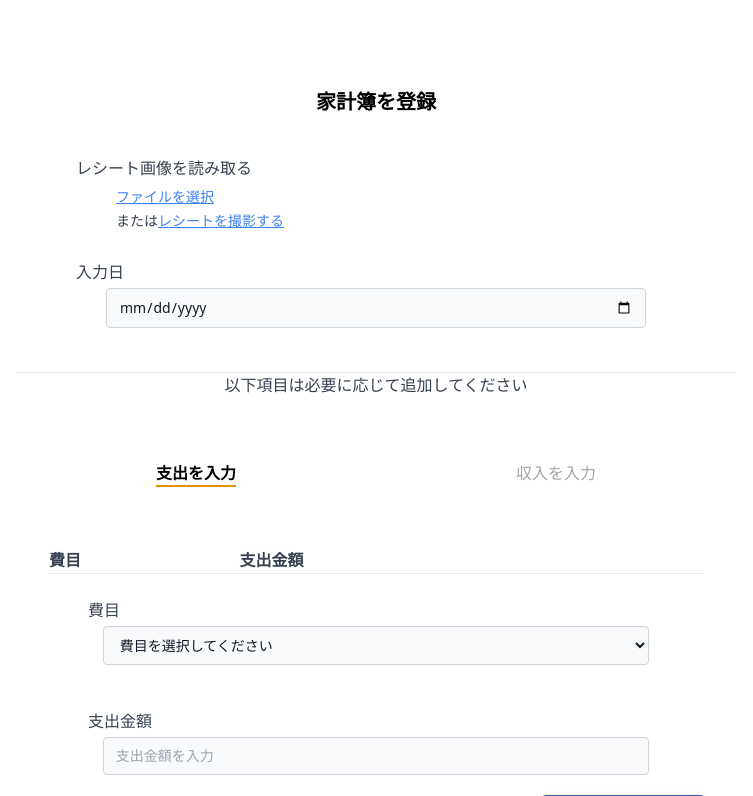
AccountBookForm Components Test Cases › Alert should not be displayed when AccountBookForm is successfull
Type "2022/08" into the date field with test id "input-date".
click(376, 308); type("2022/08")  # box [106,288,646,328]
(page scrolled)
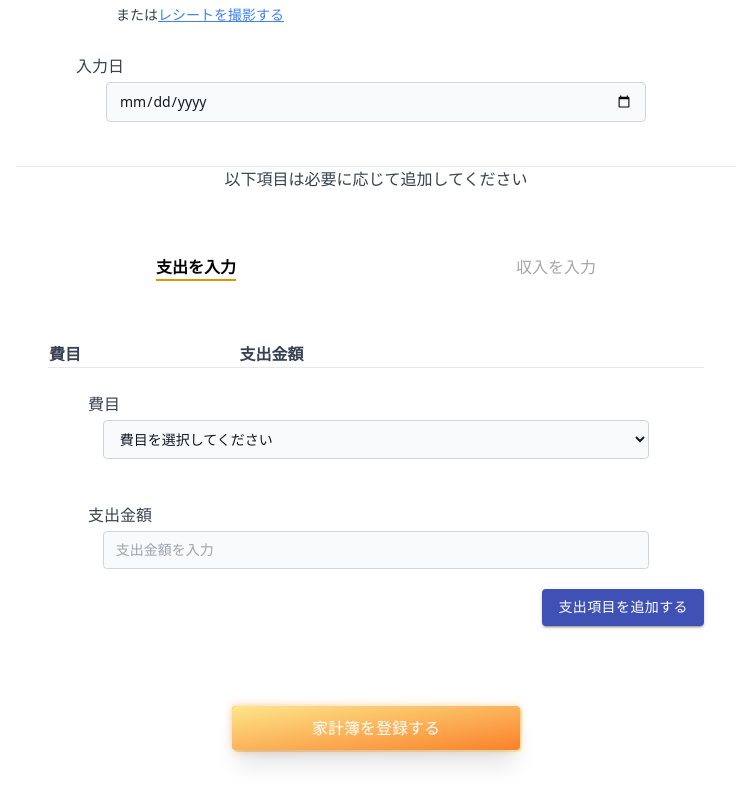
Click the button with test id "button-submit".
click(376, 728)  # box [232,706,520,750]
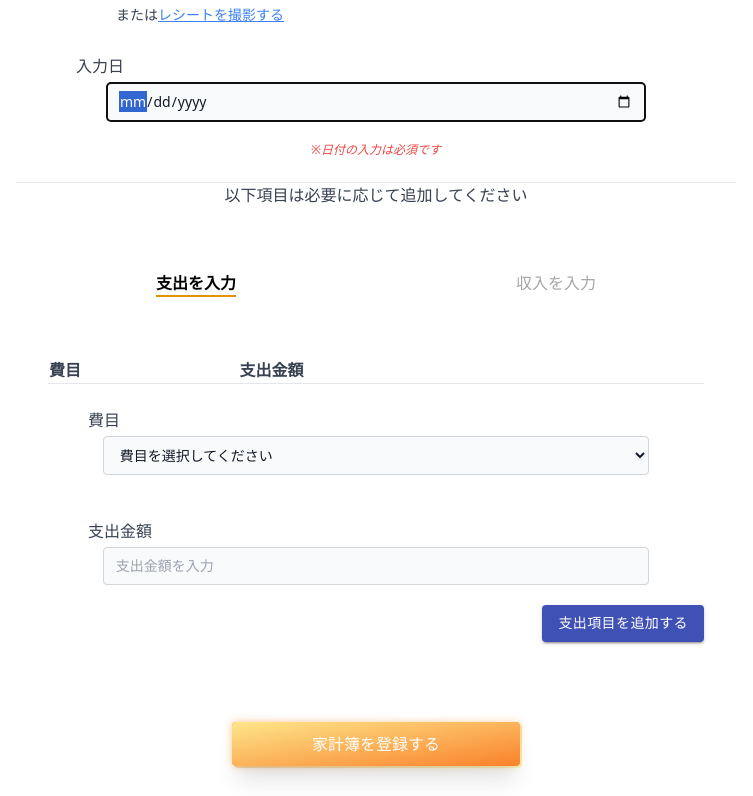
expect the number of messages is 1: met, box [311,141,441,158]
